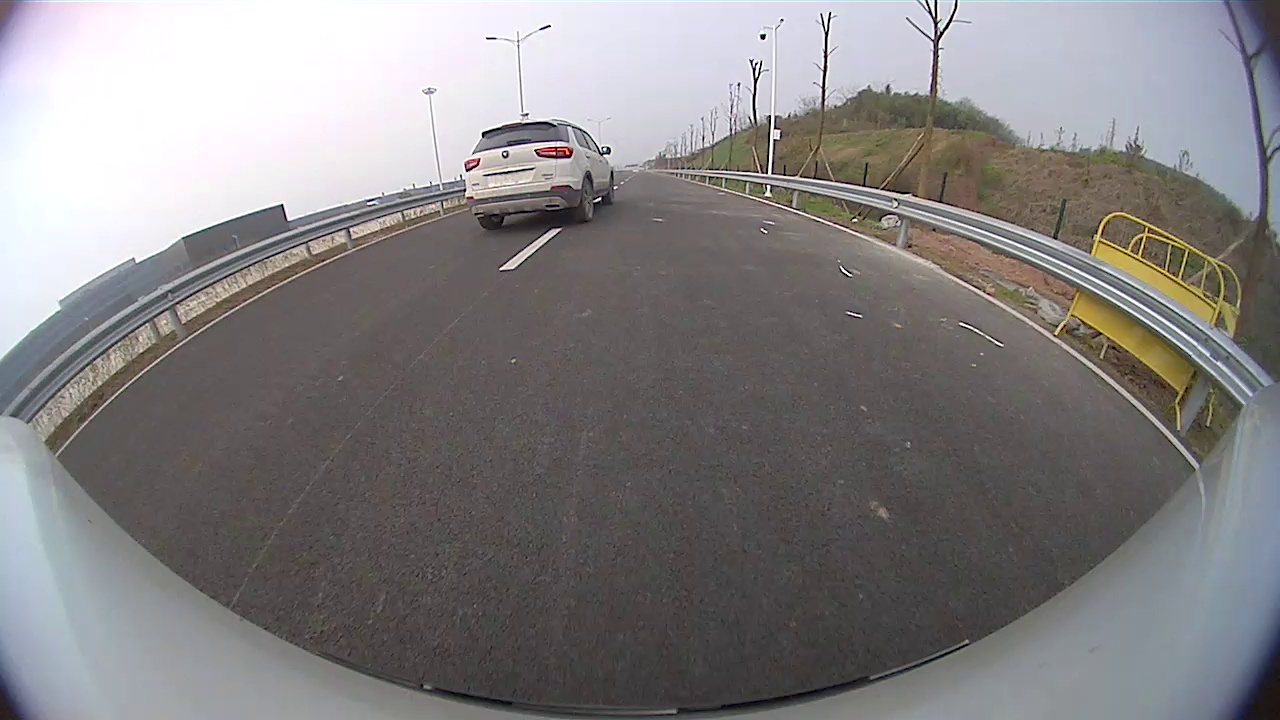car: (462, 118, 617, 233)
rear: (578, 174, 596, 222)
